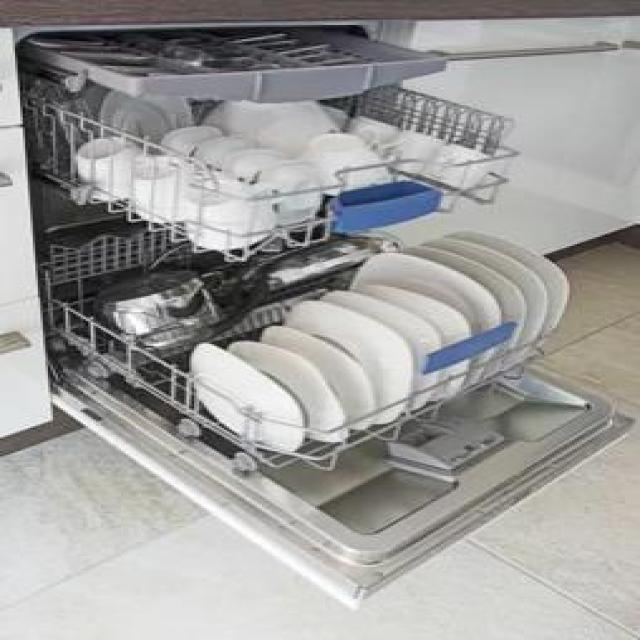dishwasher: (7, 23, 625, 603)
